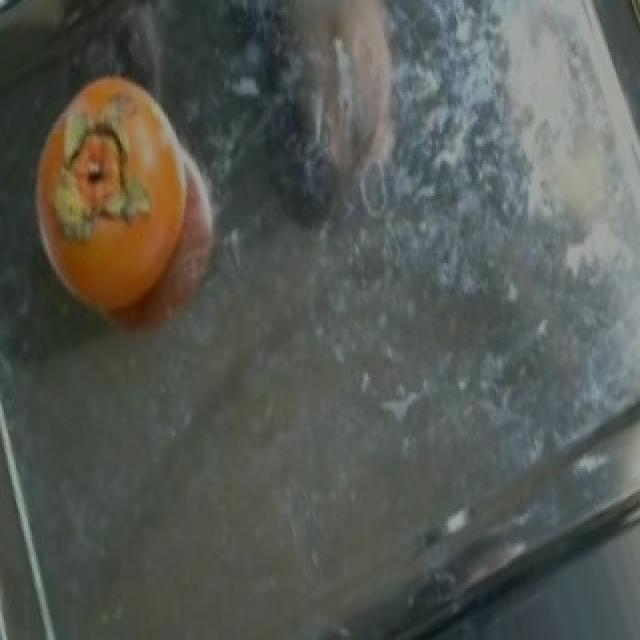Fruit: (6, 52, 216, 342)
